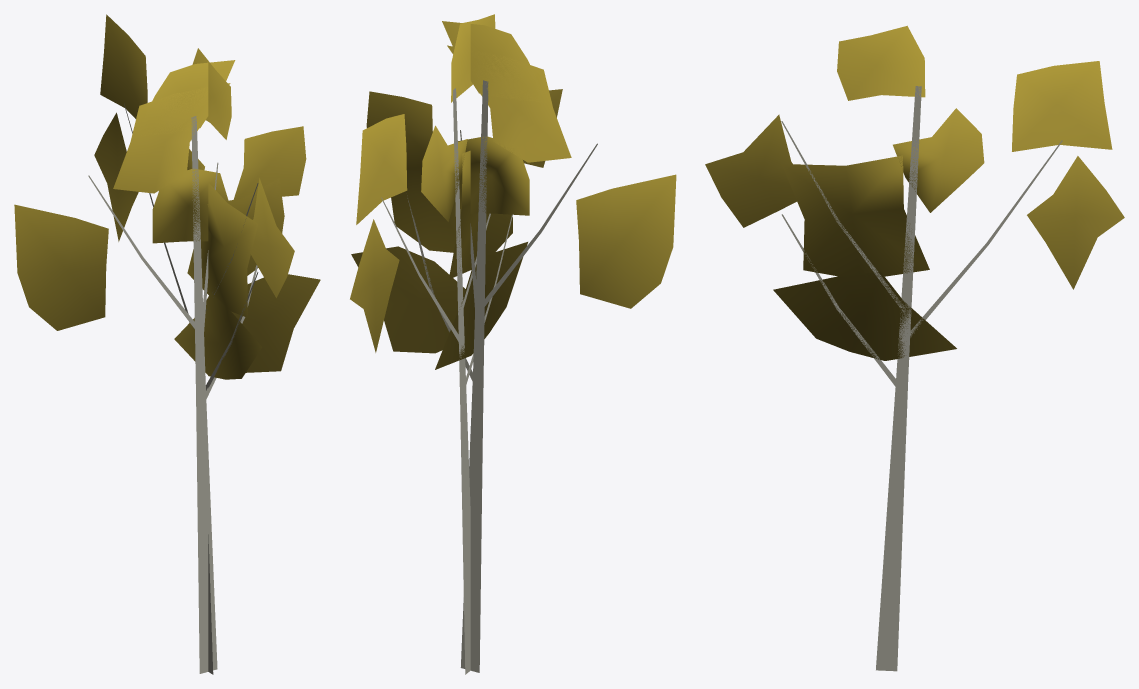
Rendered from birch-c.card.glb.
3 views of the same model, side by side, from view 1: azimuth 30°, elevation 25°; view 2: azimuth 150°, elevation 25°; view 3: azimuth 270°, elevation 25° (orthographic). The views are drawn at different scales.
Size of the model in its own units: 6.19 by 11.91 by 7.02.
